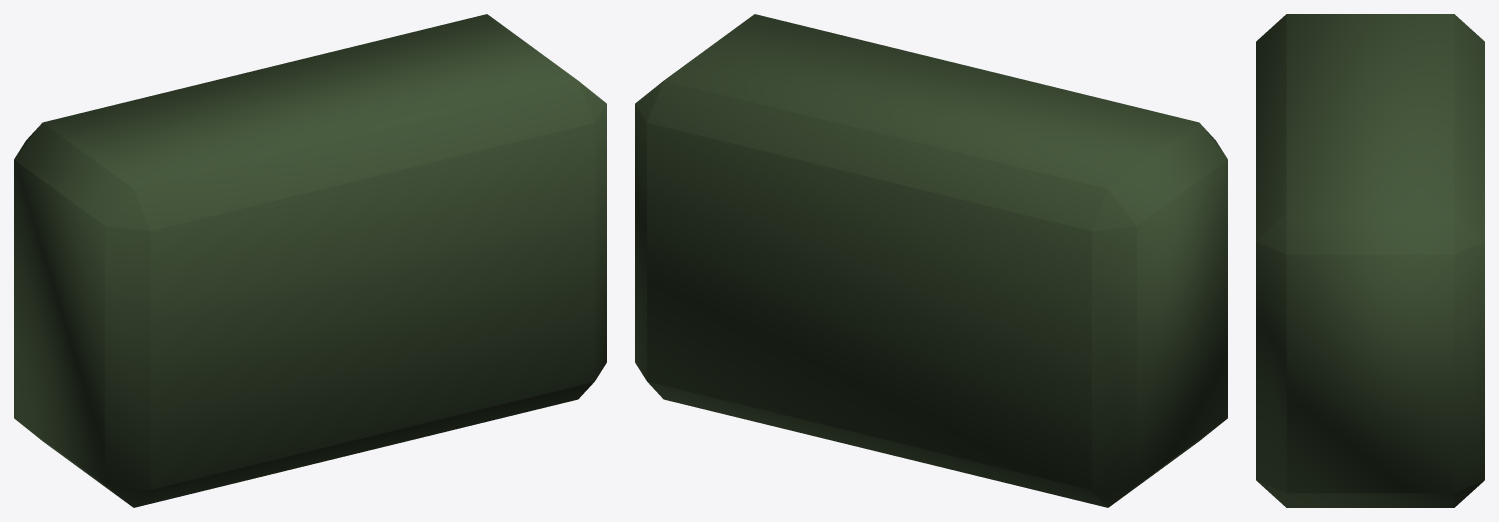
The model's file is scatter2.fbx.
3 views of the same model, side by side, from view 1: azimuth 30°, elevation 25°; view 2: azimuth 150°, elevation 25°; view 3: azimuth 270°, elevation 25° (orthographic). The views are drawn at different scales.
Visible parts, largest first — view 1: a2000/0/scatter2; view 2: a2000/0/scatter2; view 3: a2000/0/scatter2.
Part boxes in pixels (box(x1,y1,x2,y2)): a2000/0/scatter2: box(14, 14, 606, 507); a2000/0/scatter2: box(635, 14, 1227, 507); a2000/0/scatter2: box(1256, 14, 1484, 507).
Size of the model in its own units: 1.4 by 0.85 by 0.6.
